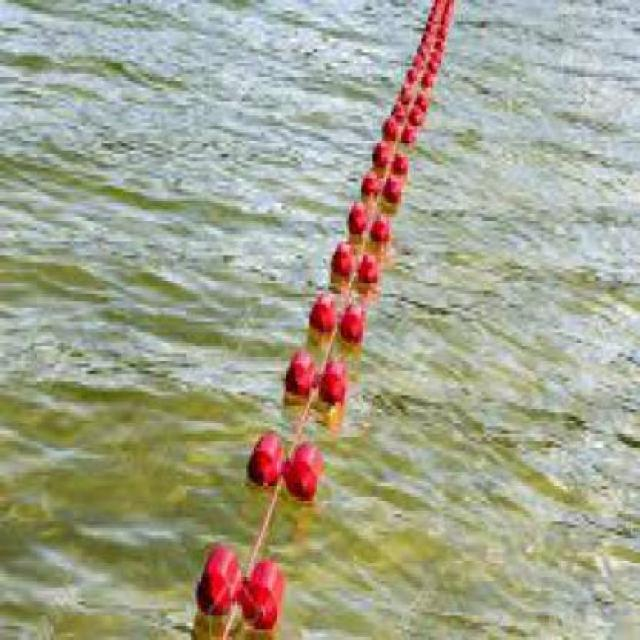a: (194, 414, 330, 631), (292, 253, 385, 411), (346, 113, 427, 235), (387, 15, 464, 102)
